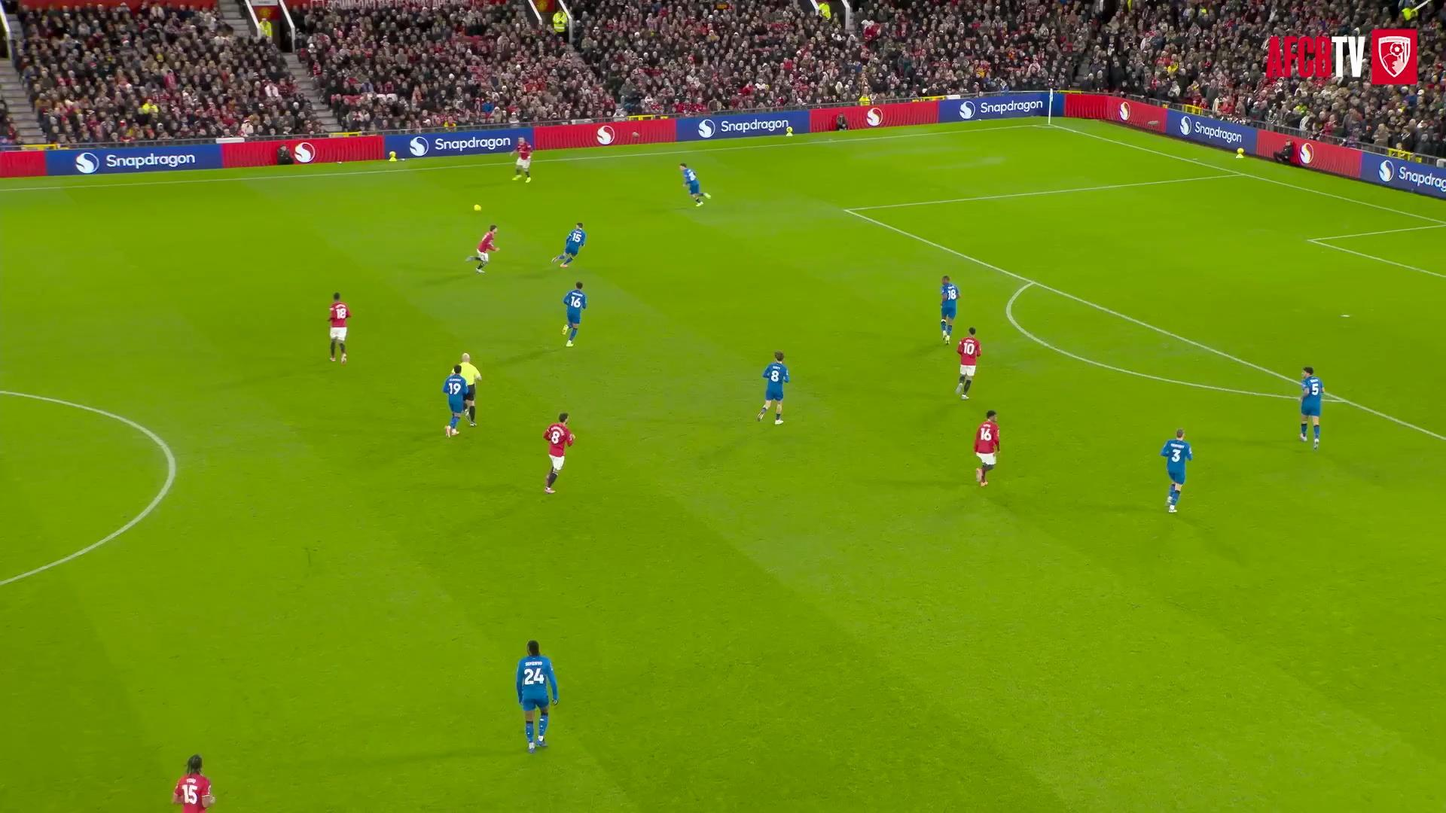football: (465, 198, 492, 218)
player: (517, 641, 559, 752), (1161, 428, 1191, 512), (172, 754, 214, 812), (545, 413, 575, 493), (757, 351, 789, 424), (974, 410, 999, 486), (1300, 366, 1323, 448), (956, 327, 981, 399), (551, 222, 586, 267), (444, 365, 466, 436), (563, 282, 587, 346), (465, 224, 497, 272), (328, 293, 349, 361), (680, 163, 710, 205), (941, 276, 959, 343), (512, 138, 533, 182)
referee: (457, 354, 481, 426)
